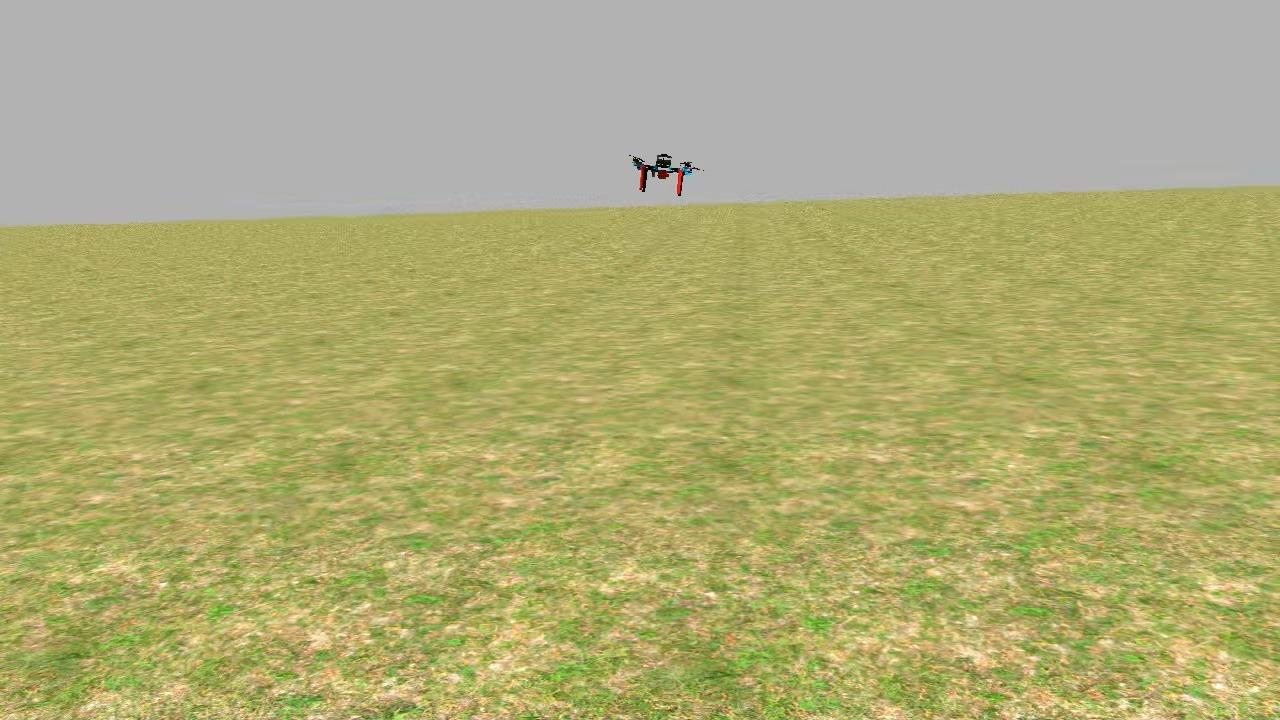UAV: (622, 146, 707, 199)
